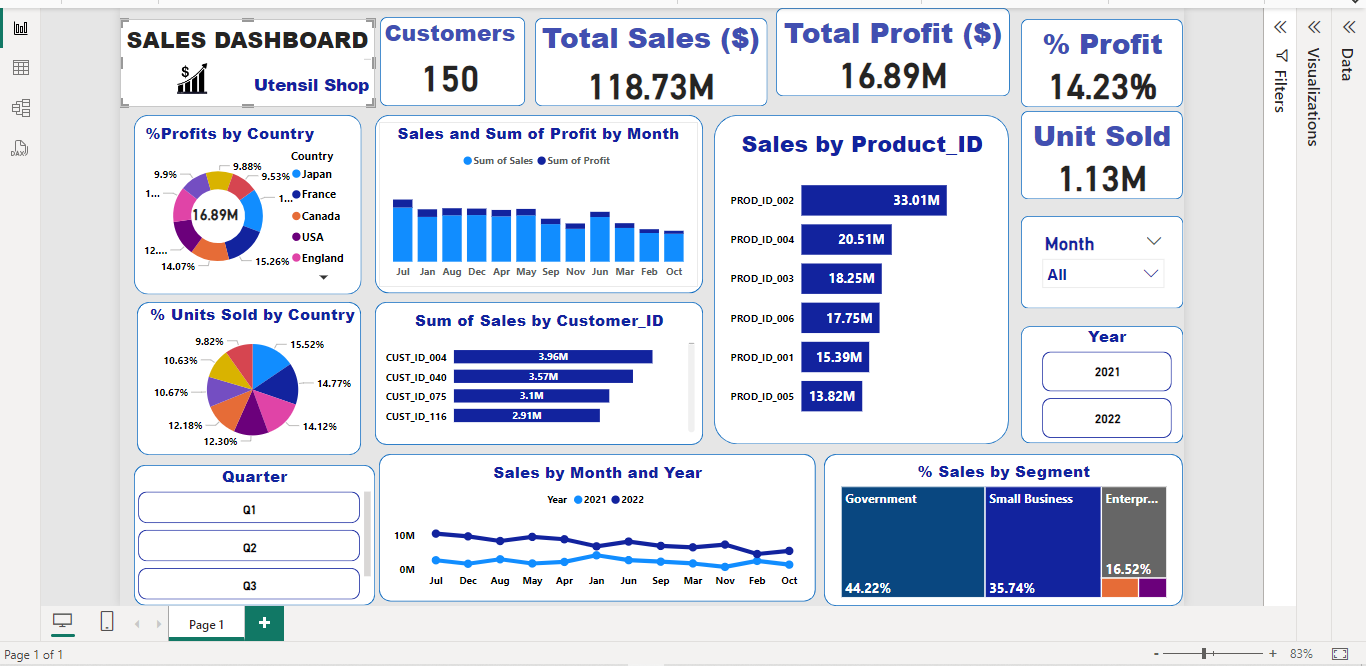

Layout of this report page (visuals, bound fields, positions):
{"tool":"powerbi","page":{"name":"Page 1","canvas":[1280,720],"ordinal":0},"visuals":[{"type":"shape","box":[0,13.8,306.9,106],"z":0,"group":"g15"},{"type":"shape","box":[16.5,129.4,273.9,216.1],"z":0,"group":"g9"},{"type":"shape","box":[312.4,11,174.8,107.4],"z":1000,"group":"g8"},{"type":"shape","box":[499.2,13.1,279.9,106.4],"z":1000,"group":"g1"},{"type":"shape","box":[306.9,129.4,395,214.7],"z":1000},{"type":"donutChart","fields":{"Category":["Sales Data.Country"],"Y":["Sales Data.%Profits"]},"box":[24.8,137.7,261.5,199.6],"z":1000,"group":"g9"},{"type":"shape","box":[306.9,353.7,395,172],"z":1000,"group":"g6"},{"type":"group","id":"g1","title":"Group 1","box":[499.2,11.3,279.9,112.9],"z":2000},{"type":"card","title":"Total Profit ($)","fields":{"Values":["Sum(Sales Data.Profit)"]},"box":[71.6,228.5,84,42.7],"z":2000,"group":"g9"},{"type":"group","id":"g2","title":"Group 2","box":[790,0,282.2,106],"z":3000},{"type":"shape","box":[790,0,281.5,106.4],"z":3000,"group":"g2"},{"type":"group","id":"g3","title":"Group 3","box":[1085.2,13.1,194.8,106.4],"z":4000},{"type":"shape","box":[1085.2,13.1,194.8,106.4],"z":4000,"group":"g3"},{"type":"group","id":"g4","title":"Group 4","box":[1085.2,124.4,194.8,106.4],"z":5000},{"type":"shape","box":[715.7,129.4,355.1,396.4],"z":5000,"group":"g5"},{"type":"shape","box":[1085.2,124.4,194.8,106.4],"z":6000,"group":"g4"},{"type":"group","id":"g5","title":"Group 5","box":[715.7,129.4,355.1,396.4],"z":6000},{"type":"card","title":"Total Sales ($)","fields":{"Values":["Sum(Sales Data.Sales)"]},"box":[500.5,11.3,276.6,112.9],"z":7000,"group":"g1"},{"type":"columnChart","title":" Sales and Sum of Profit by Month","fields":{"Category":["Sales Data.Month"],"Y":["Sum(Sales Data.Sales)","Sum(Sales Data.Profit)"]},"box":[312.4,137.6,384,198.2],"z":7000},{"type":"barChart","fields":{"Y":["Sum(Sales Data.Sales)"],"Category":["Sales Data.Customer_ID"]},"box":[312.4,361.7,384,153.5],"z":7000,"group":"g6"},{"type":"card","title":"% Profit","fields":{"Values":["Sales Data.%Profits"]},"box":[1099.9,18,167,96.6],"z":7001,"group":"g3"},{"type":"card","title":"Total Profit ($)","fields":{"Values":["Sum(Sales Data.Profit)"]},"box":[790,4.9,281.5,96.6],"z":7003,"group":"g2"},{"type":"card","title":"Unit Sold","fields":{"Values":["Sum(Sales Data.Units Sold)"]},"box":[1085.2,129.3,194.8,96.6],"z":7004,"group":"g4"},{"type":"clusteredBarChart","title":"Sales by Product_ID","fields":{"Category":["Sales Data.Product_ID"],"Y":["Sum(Sales Data.Sales)"]},"box":[728.8,144.5,330.6,366.1],"z":7008,"group":"g5"},{"type":"group","id":"g6","title":"Group 6","box":[306.9,353.7,395,172],"z":8000},{"type":"group","id":"g7","title":"Group 7","box":[306.9,11,180.3,107.4],"z":9000},{"type":"group","id":"g8","title":"Group 1","box":[312.4,11,174.8,107.4],"z":10000,"group":"g7"},{"type":"textbox","title":"SALES DASHBOARD","box":[0,19.3,306.9,48.2],"z":10000,"group":"g15"},{"type":"card","title":"Customers","fields":{"Values":["Count(Sales Data.Customer_ID)"]},"box":[306.9,11,180.3,101.8],"z":11000,"group":"g7"},{"type":"textbox","title":"Utensil Shop","box":[154.2,78.5,152.8,35.8],"z":11000,"group":"g15"},{"type":"group","id":"g9","title":"Group 8","box":[16.5,129.4,273.9,216.1],"z":12000},{"type":"shape","box":[1084.6,250.5,195.4,111.5],"z":12000,"group":"g12"},{"type":"shape","box":[847.8,536.8,432.2,183.1],"z":12000,"group":"g10"},{"type":"group","id":"g10","title":"Group 9","box":[847.8,536.8,432.2,183.1],"z":13000},{"type":"shape","box":[20.6,353.7,269.8,184.4],"z":14000,"group":"g13"},{"type":"shape","box":[312.4,536.8,525.8,177.5],"z":14000},{"type":"lineChart","title":" Sales by Month and Year","fields":{"Category":["Sales Data.Month"],"Series":["Sales Data.Year"],"Y":["Sum(Sales Data.Sales)"]},"box":[323.4,545,502.4,162.4],"z":15000},{"type":"treemap","title":"% Sales by Segment","fields":{"Group":["Sales Data.Segment"],"Values":["Sum(Sales Data.Sales)"]},"box":[862.9,543.7,401.9,170.7],"z":16000,"group":"g10"},{"type":"group","id":"g11","title":"Group 10","box":[1084.6,381.2,195.4,141.8],"z":17000},{"type":"group","id":"g12","title":"Group 11","box":[1084.6,250.5,195.4,111.5],"z":18000},{"type":"shape","box":[1084.6,382.3,195.4,141.4],"z":18000,"group":"g11"},{"type":"advancedSlicerVisual","fields":{"Values":["Sales Data.Year"]},"box":[1104.5,381.2,166.5,141.4],"z":19000,"group":"g11"},{"type":"shape","box":[16.5,550.5,290.4,169.3],"z":19000,"group":"g14"},{"type":"slicer","fields":{"Values":["Sales Data.Month"]},"box":[1099.7,265.6,166.5,78.5],"z":19001,"group":"g12"},{"type":"pieChart","title":"% Units Sold by Country","fields":{"Y":["Sum(Sales Data.Units Sold)"],"Category":["Sales Data.Country"]},"box":[28.9,355.1,261.5,181.7],"z":19006,"group":"g13"},{"type":"group","id":"g13","title":"Group 12","box":[20.6,353.7,269.8,184.4],"z":20000},{"type":"advancedSlicerVisual","fields":{"Values":["Sales Data.Quarter"]},"box":[16.5,550.5,290.4,169.3],"z":20001,"group":"g14"},{"type":"group","id":"g14","title":"Group 13","box":[16.5,550.5,290.4,169.3],"z":20002},{"type":"image","box":[28.9,62,115.6,46.8],"z":20003,"group":"g15"},{"type":"group","id":"g15","title":"Group 14","box":[0,13.8,306.9,106],"z":20004}]}

Visuals, with their boxes on the page's 1280x720 design canvas (x1, y1, x2, y2). These are canvas units, not pixel positions in the 1366x666 screenshot, which may show the page scaled, cropped or inside an application window:
shape: locate(0, 14, 307, 120)
shape: locate(16, 129, 290, 346)
shape: locate(312, 11, 487, 118)
shape: locate(499, 13, 779, 120)
shape: locate(307, 129, 702, 344)
donutChart - Sales Data.Country x Sales Data.%Profits: locate(25, 138, 286, 337)
shape: locate(307, 354, 702, 526)
"Group 1" group: locate(499, 11, 779, 124)
"Total Profit ($)" card: locate(72, 228, 156, 271)
"Group 2" group: locate(790, 0, 1072, 106)
shape: locate(790, 0, 1072, 106)
"Group 3" group: locate(1085, 13, 1280, 120)
shape: locate(1085, 13, 1280, 120)
"Group 4" group: locate(1085, 124, 1280, 231)
shape: locate(716, 129, 1071, 526)
shape: locate(1085, 124, 1280, 231)
"Group 5" group: locate(716, 129, 1071, 526)
"Total Sales ($)" card: locate(500, 11, 777, 124)
" Sales and Sum of Profit by Month" columnChart: locate(312, 138, 696, 336)
barChart - Sum(Sales Data.Sales) x Sales Data.Customer_ID: locate(312, 362, 696, 515)
"% Profit" card: locate(1100, 18, 1267, 115)
"Total Profit ($)" card: locate(790, 5, 1072, 102)
"Unit Sold" card: locate(1085, 129, 1280, 226)
"Sales by Product_ID" clusteredBarChart: locate(729, 144, 1059, 511)
"Group 6" group: locate(307, 354, 702, 526)
"Group 7" group: locate(307, 11, 487, 118)
"Group 1" group: locate(312, 11, 487, 118)
"SALES DASHBOARD" textbox: locate(0, 19, 307, 68)
"Customers" card: locate(307, 11, 487, 113)
"Utensil Shop" textbox: locate(154, 78, 307, 114)
"Group 8" group: locate(16, 129, 290, 346)
shape: locate(1085, 250, 1280, 362)
shape: locate(848, 537, 1280, 720)
"Group 9" group: locate(848, 537, 1280, 720)
shape: locate(21, 354, 290, 538)
shape: locate(312, 537, 838, 714)
" Sales by Month and Year" lineChart: locate(323, 545, 826, 707)
"% Sales by Segment" treemap: locate(863, 544, 1265, 714)
"Group 10" group: locate(1085, 381, 1280, 523)
"Group 11" group: locate(1085, 250, 1280, 362)
shape: locate(1085, 382, 1280, 524)
advancedSlicerVisual - Sales Data.Year: locate(1104, 381, 1271, 523)
shape: locate(16, 550, 307, 720)
slicer - Sales Data.Month: locate(1100, 266, 1266, 344)
"% Units Sold by Country" pieChart: locate(29, 355, 290, 537)
"Group 12" group: locate(21, 354, 290, 538)
advancedSlicerVisual - Sales Data.Quarter: locate(16, 550, 307, 720)
"Group 13" group: locate(16, 550, 307, 720)
image: locate(29, 62, 144, 109)
"Group 14" group: locate(0, 14, 307, 120)
